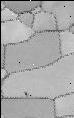good_void: (22, 91, 28, 96)
